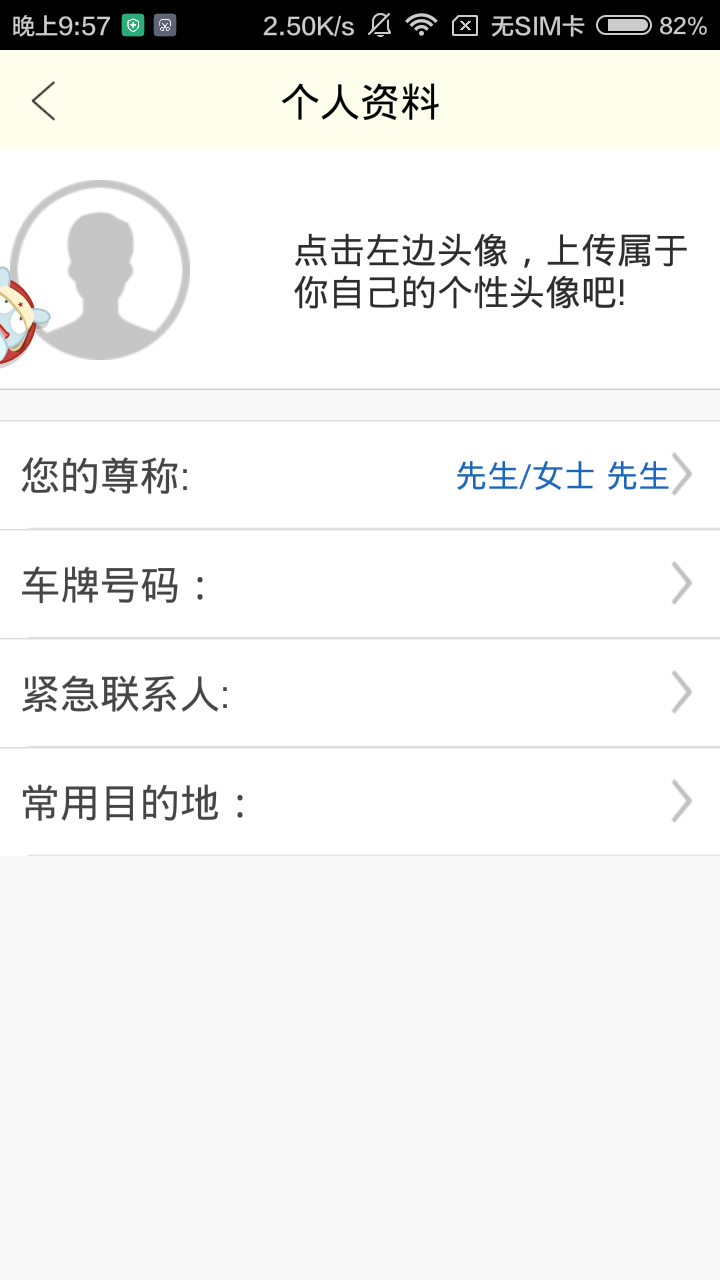textview: (5, 417, 720, 864), (278, 217, 693, 329)
